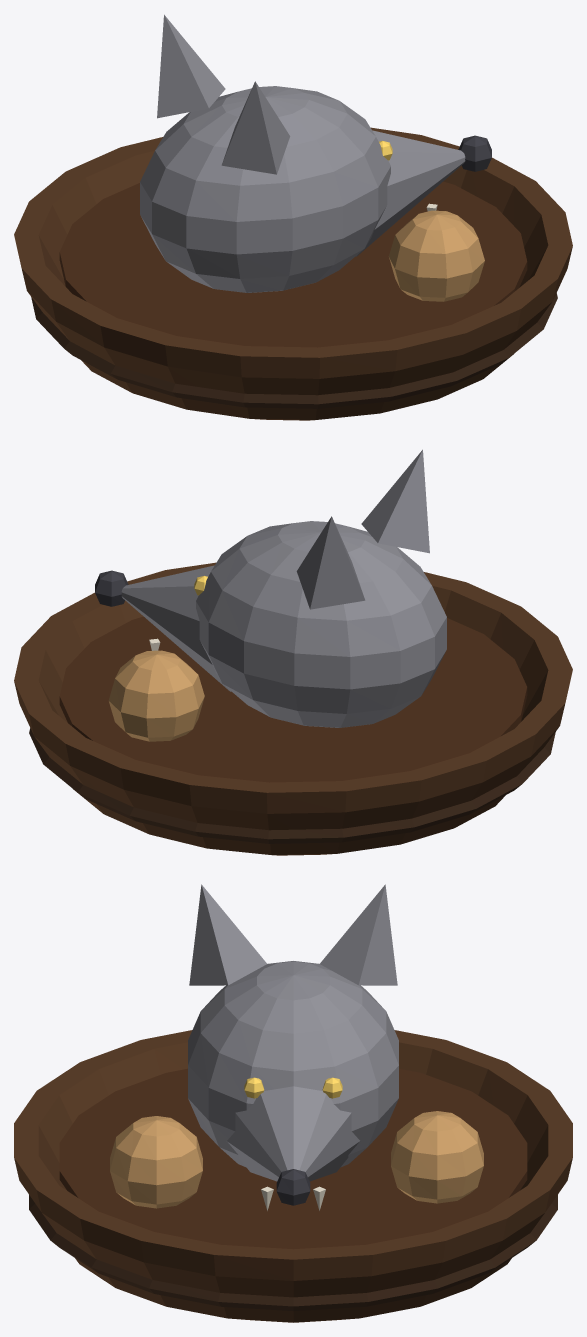
Rendered from VFP_Food_WolfHerbRoast.obj.
3 views of the same model, one above another, from view 1: azimuth 30°, elevation 25°; view 2: azimuth 150°, elevation 25°; view 3: azimuth 270°, elevation 25° (orthographic).
Visible parts, largest first — view 1: Head, Bowl, Fill, Bowl_wood_dark, Onions, Head_wolf_dark; view 2: Head, Bowl, Fill, Bowl_wood_dark, Onions, Head_wolf_dark; view 3: Bowl, Head, Fill, Onions, Bowl_wood_dark, Head_wolf_dark, Head_lure.
Boxes of the visible parts, x1,y1,x2,y2 form: Head: (140,14,465,292); Bowl: (14,127,572,420); Fill: (59,181,527,347); Bowl_wood_dark: (31,293,557,408); Onions: (389,210,484,301); Head_wolf_dark: (458,135,491,171); Head: (121,449,446,727); Bowl: (14,562,572,855); Fill: (59,616,527,782); Bowl_wood_dark: (29,728,555,843); Onions: (108,650,204,741); Head_wolf_dark: (95,570,128,606); Bowl: (14,1030,572,1322); Head: (188,884,398,1181); Fill: (59,1068,527,1249); Onions: (110,1111,483,1208); Bowl_wood_dark: (29,1195,557,1311); Head_wolf_dark: (276,1169,310,1205); Head_lure: (244,1077,342,1098).
Size of the model in its own units: 0.3468 by 0.2256 by 0.3432.
